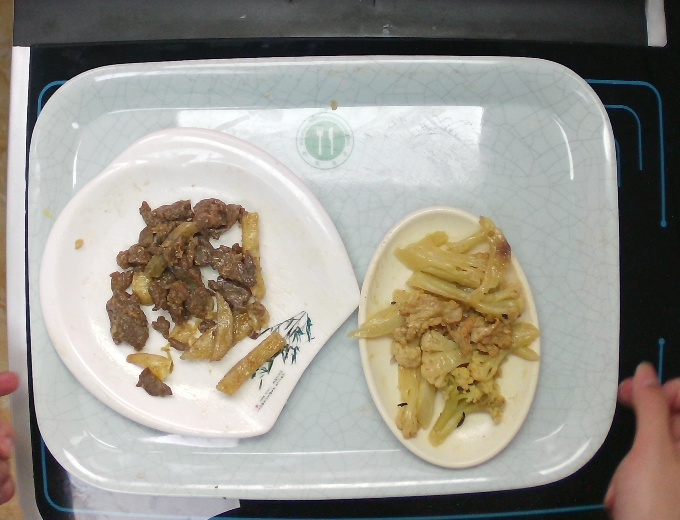JYsf-Mian_Pan: (37, 124, 362, 442)
JYsf-Tuo_Yuan_Wan: (354, 202, 545, 471)
